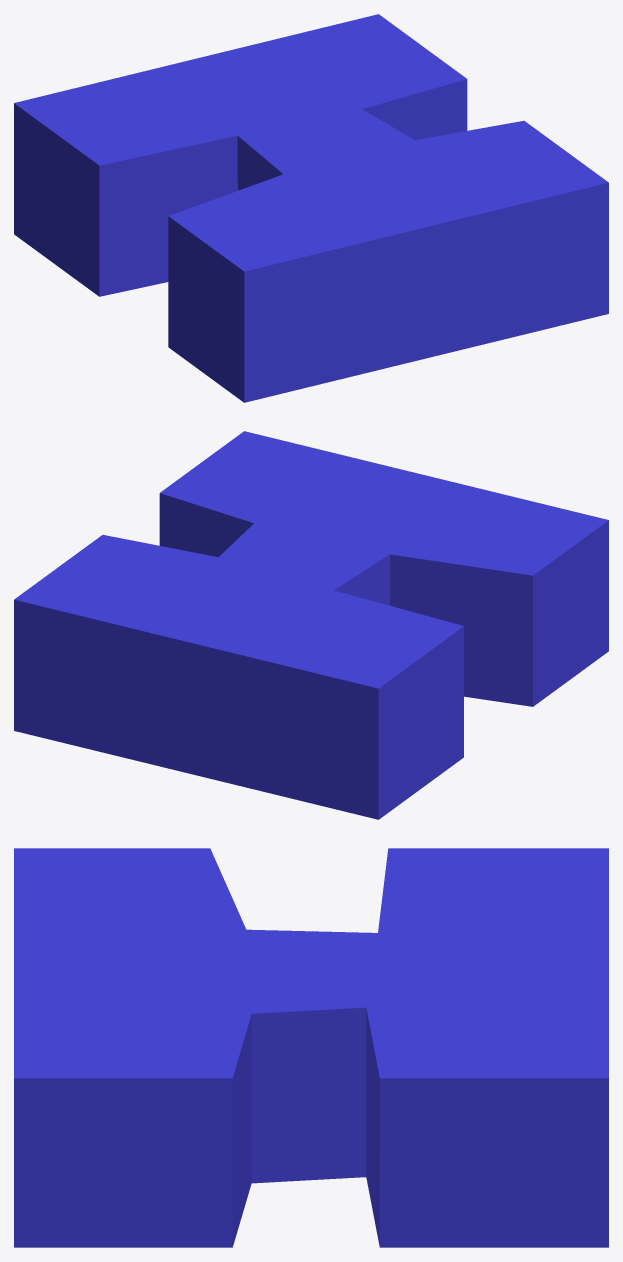
File: blue_h.fbx
3 renders of one model, top to bottom at view 1: azimuth 30°, elevation 25°; view 2: azimuth 150°, elevation 25°; view 3: azimuth 270°, elevation 25°, orthographic. The views are drawn at different scales.
Visible parts, largest first — view 1: Plane.001; view 2: Plane.001; view 3: Plane.001.
Part boxes in pixels (<box>): Plane.001: <box>14,14,608,402</box>; Plane.001: <box>14,431,608,819</box>; Plane.001: <box>14,848,608,1247</box>.
Bounding box in the file's own units: 454 × 157 × 496.
